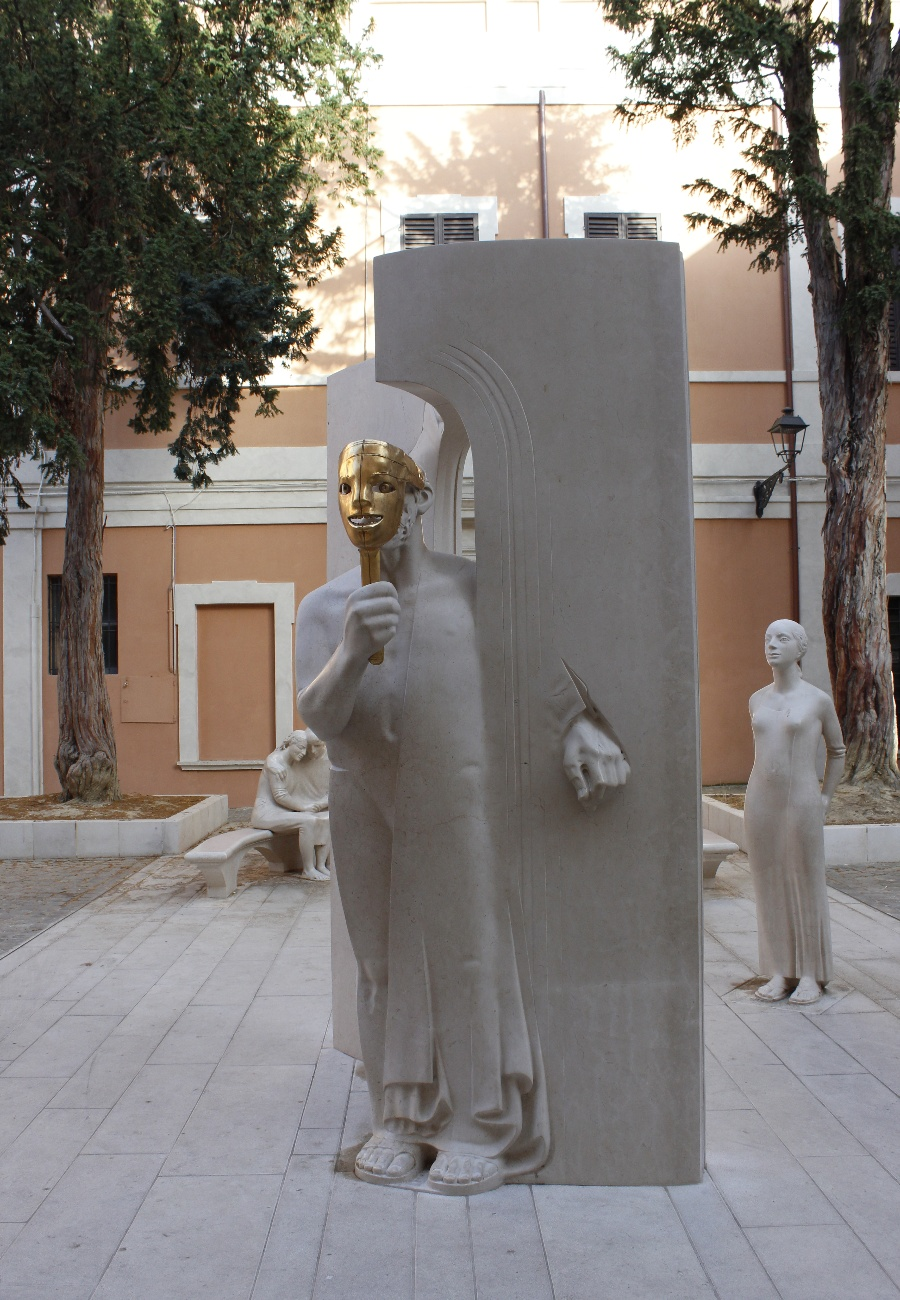Scultura della Memoria: (296, 439, 632, 1197)
